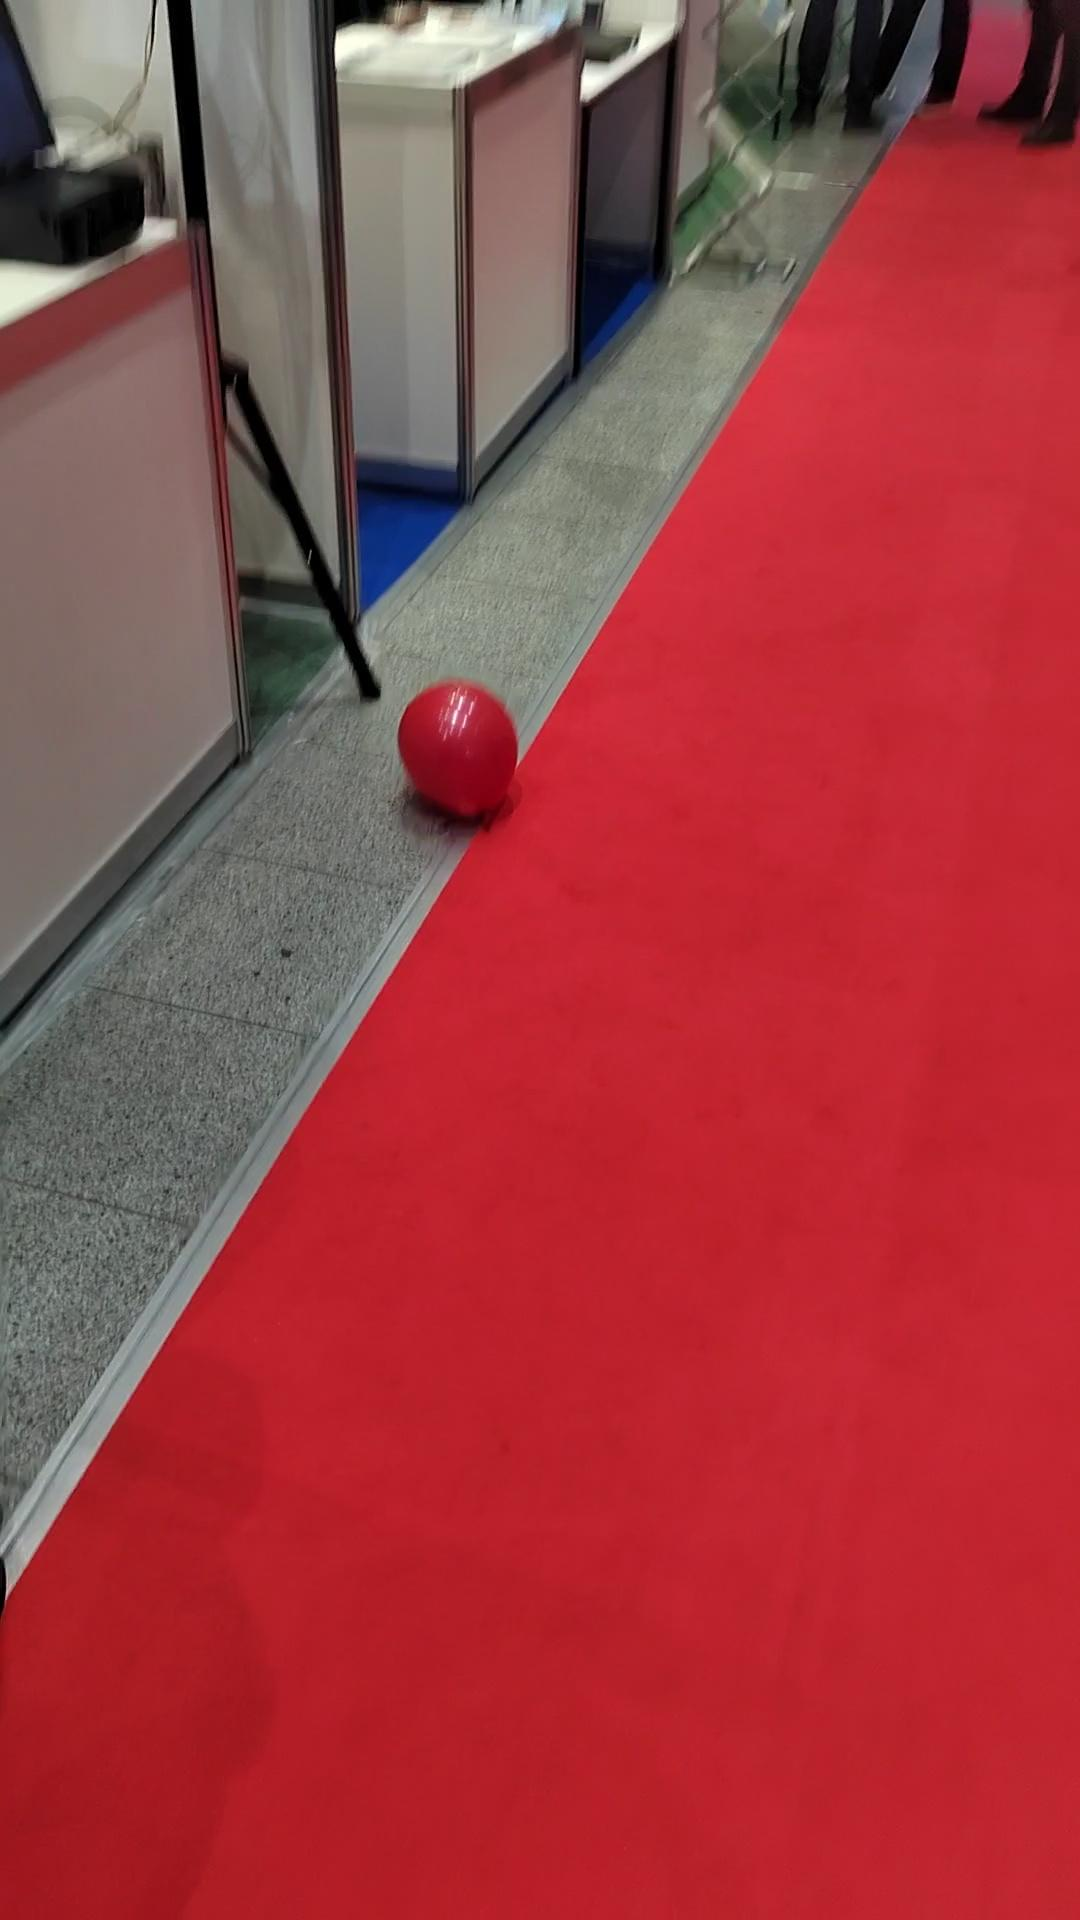red: (397, 684, 524, 827)
